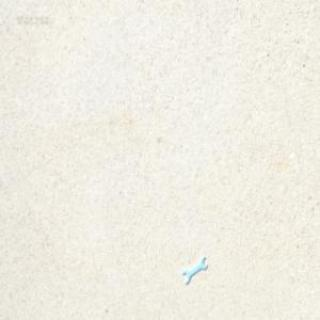Wrenchtrack_idkeyframe: (182, 252, 208, 281)
